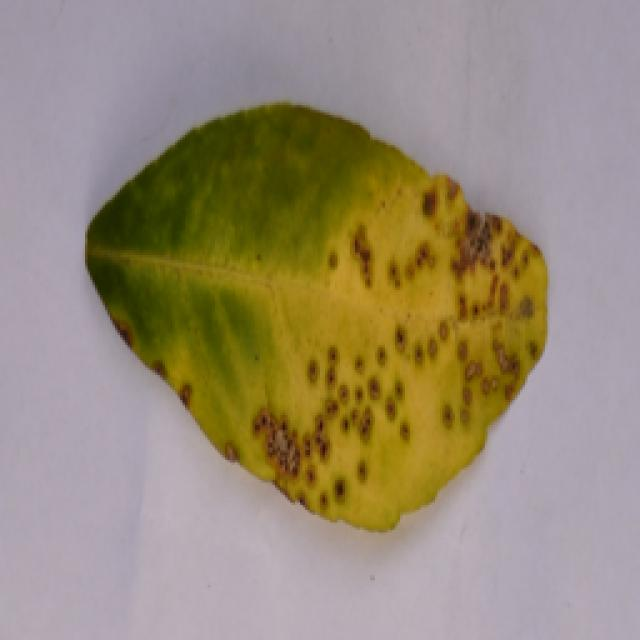canker: (87, 96, 551, 532)
